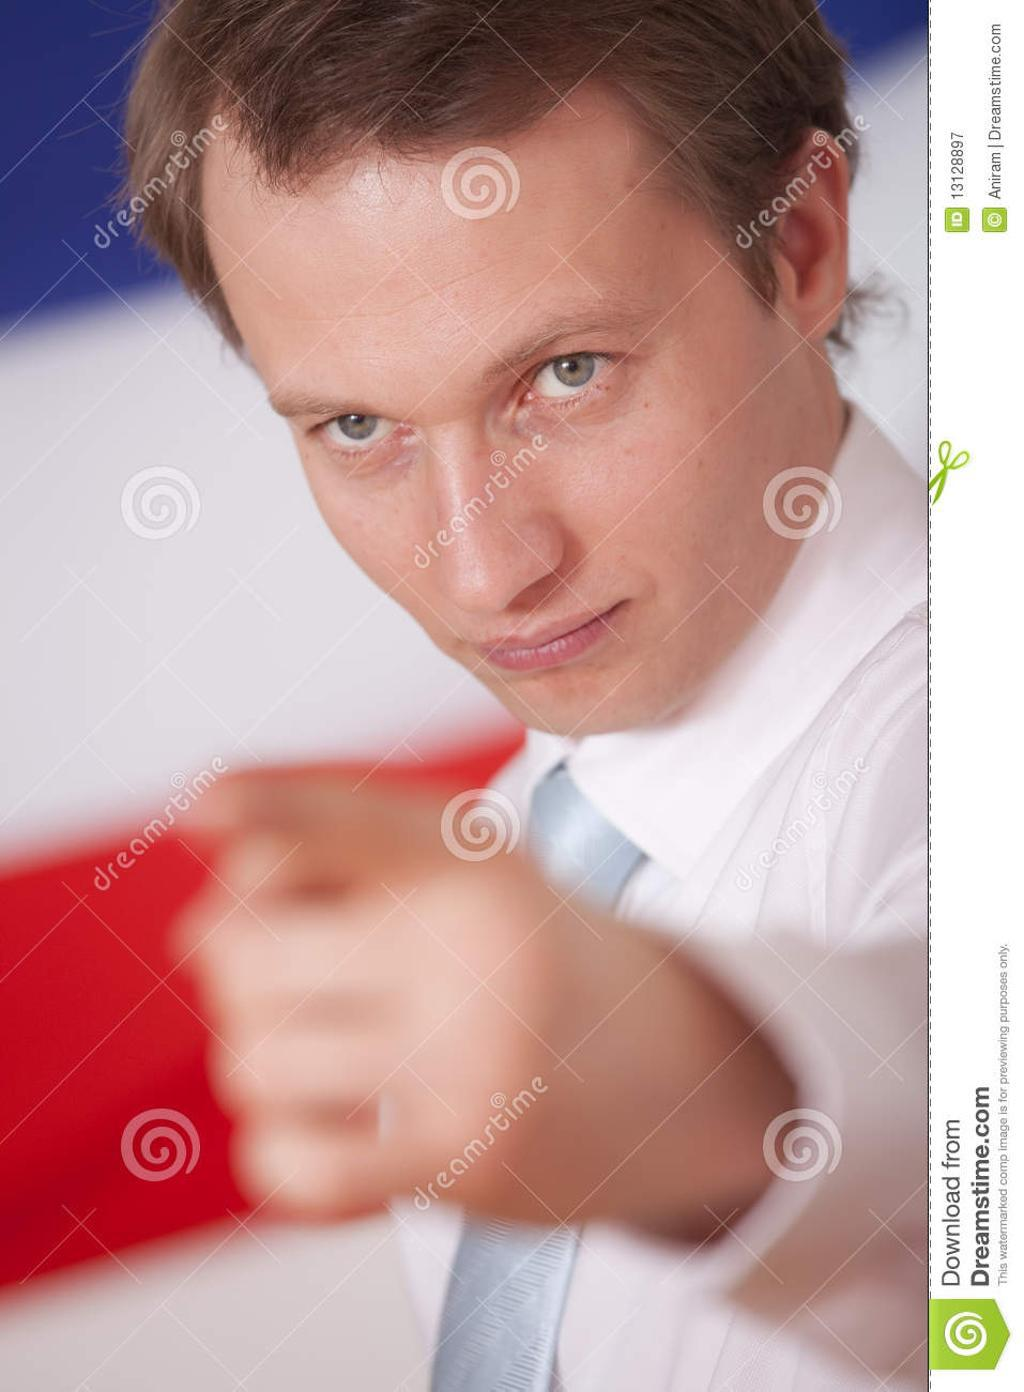face: (197, 140, 822, 743)
